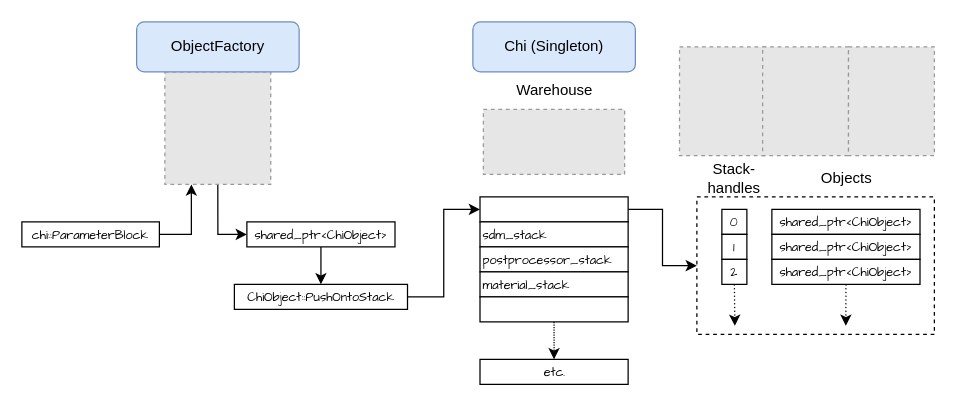
The diagram is 956 pixels wide and 406 high, and some of its shapes have lost their labels. Grey dashed boxes stand in for pictures. The centre of each missing label's shape, as x and y in pixels:
"field_function_stack" goes at point (553, 309).
"object_stack" goes at point (553, 209).
